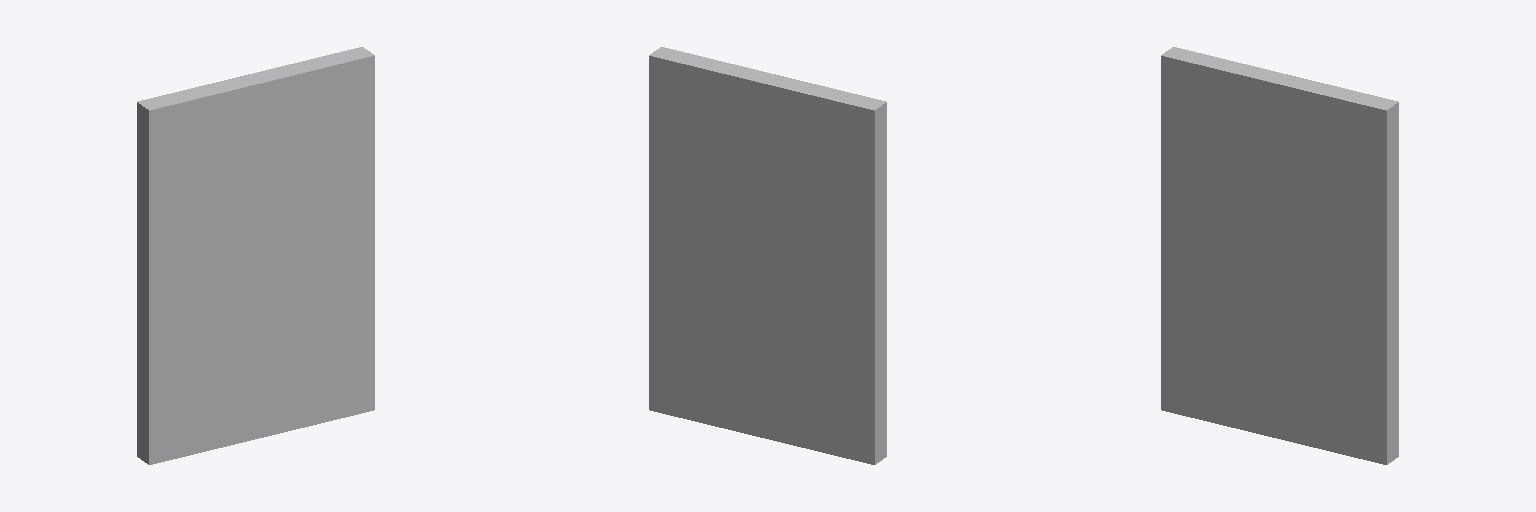
Rendered from hcmwdoorinnergate.obj.
3 views of the same model, side by side, from view 1: azimuth 30°, elevation 25°; view 2: azimuth 150°, elevation 25°; view 3: azimuth 330°, elevation 25° (orthographic).
Parts seen in each view (by area): view 1: hm_innergate; view 2: hm_innergate; view 3: hm_innergate.
Boxes of the visible parts, <box> form: hm_innergate: <box>137,47,374,464</box>; hm_innergate: <box>649,47,886,464</box>; hm_innergate: <box>1161,47,1398,464</box>.
Size of the model in its own units: 2 by 3 by 0.188.